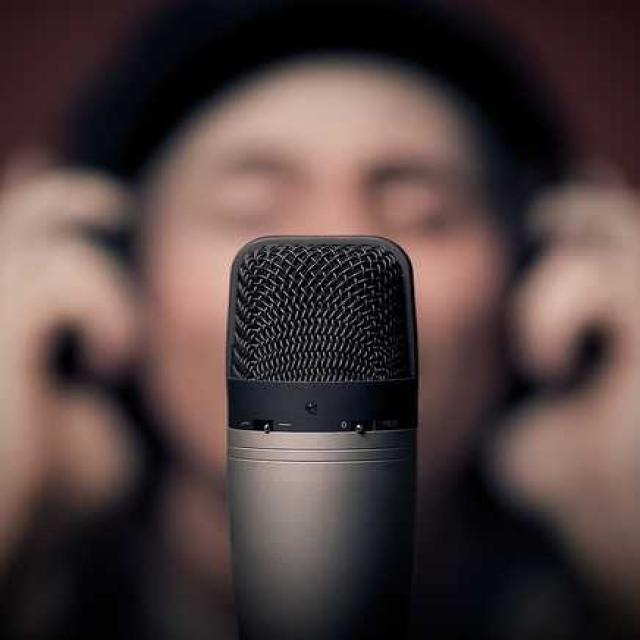microphone: (223, 231, 425, 638)
